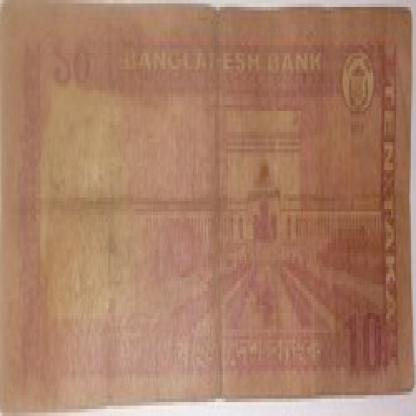Ten Taka: (48, 31, 103, 104)
